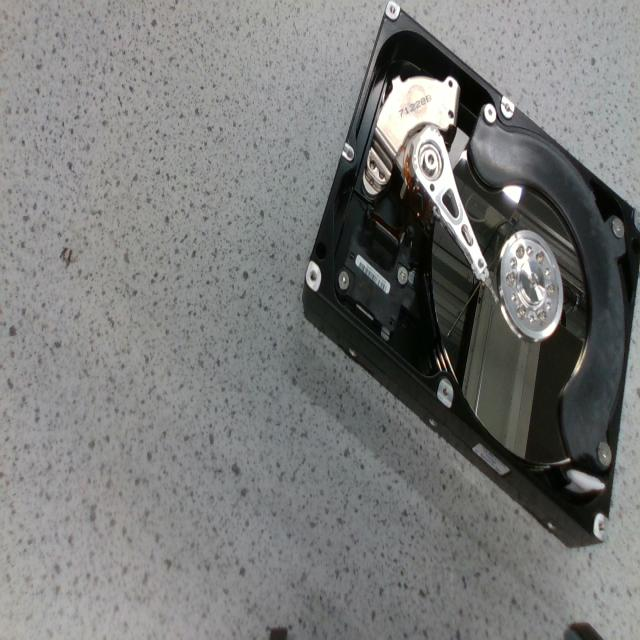actuator arm: (404, 125, 488, 279)
actuator axis: (423, 147, 438, 176)
case: (304, 0, 640, 540)
magnet: (376, 76, 460, 156)
pcb connector: (337, 225, 410, 329)
platter: (431, 157, 592, 460)
platter holder: (498, 231, 563, 341)
platter protector: (468, 108, 624, 470)
screw: (598, 442, 612, 467), (608, 216, 624, 236), (338, 270, 350, 290), (484, 105, 496, 123), (397, 268, 408, 285), (517, 303, 526, 320), (506, 271, 516, 286), (539, 308, 547, 323), (548, 282, 556, 296), (518, 243, 524, 258), (537, 251, 544, 263)
